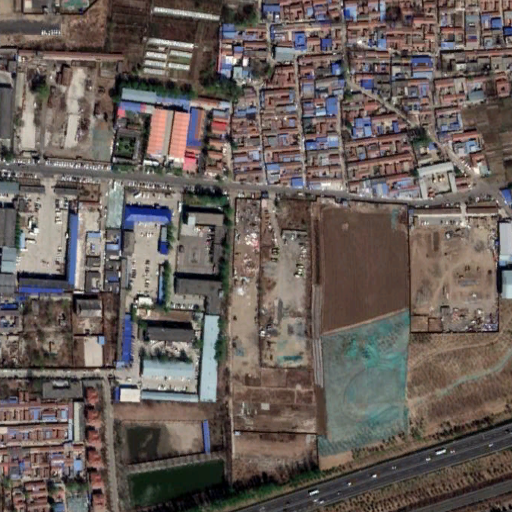cw: (315, 303, 411, 453)
